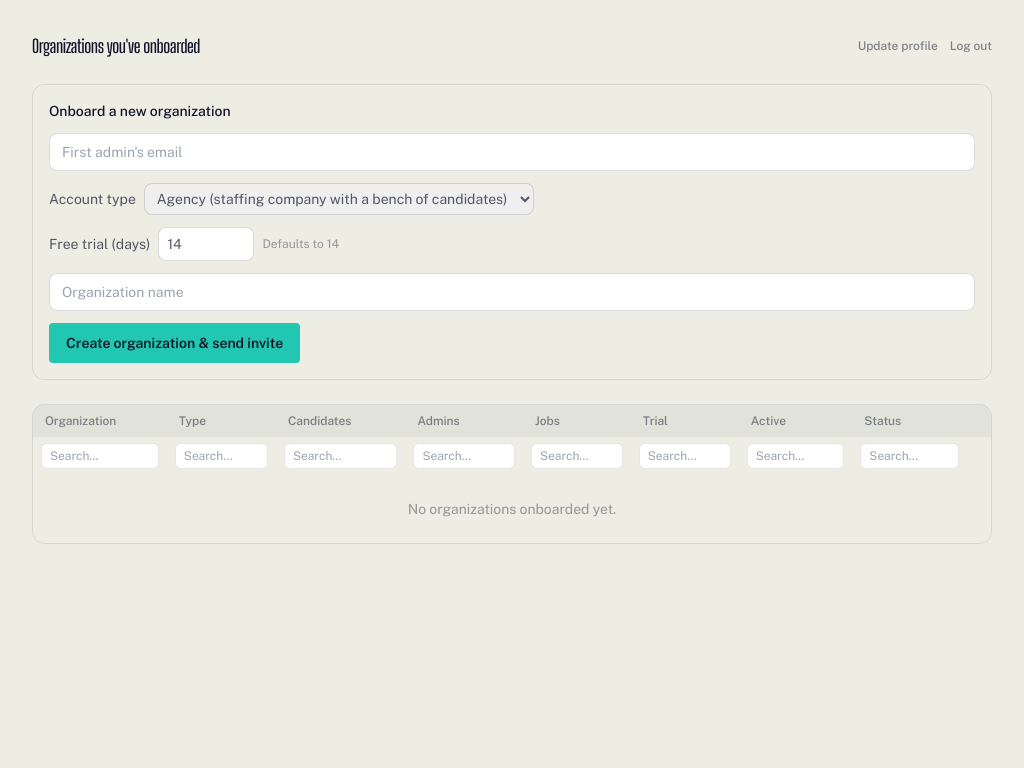
Test case: StaffDashboard › shows the server error when the organization name is already taken
Expected: the text "No organizations onboarded yet." is shown, 33,475 -> 991,543
Type "Beta Corp" into the field with placeholder "Organization name".
click(512, 292); type("Beta Corp")  # box 49,273 -> 975,311
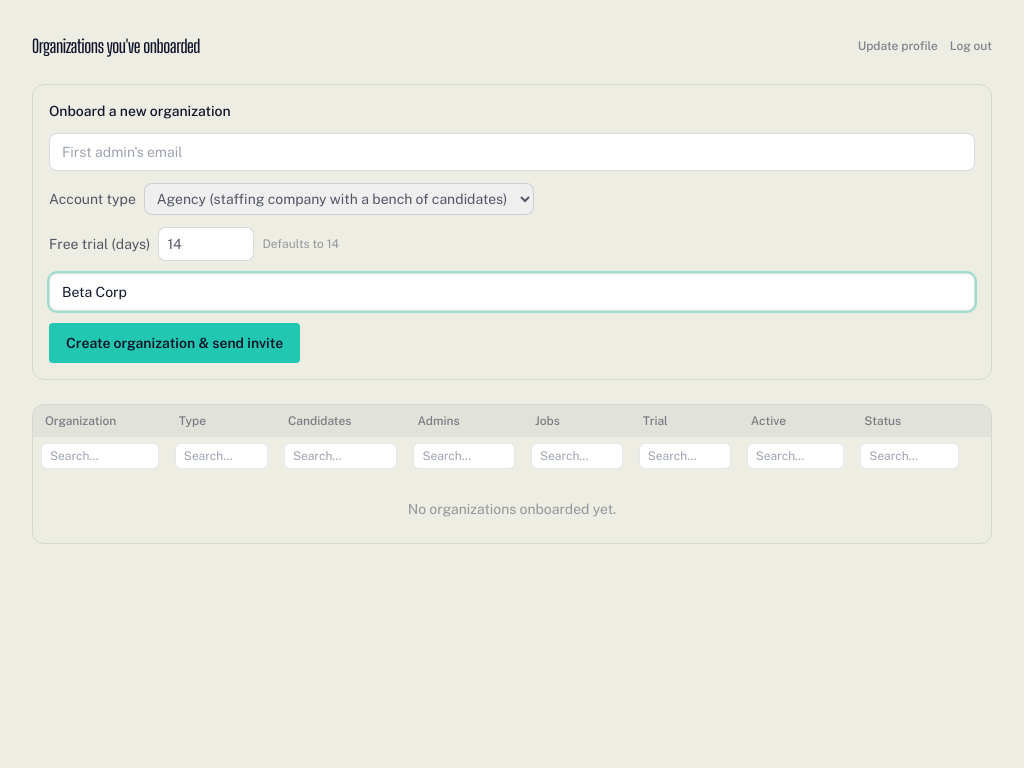
Type "admin@beta.com" into the field with placeholder "First admin's email".
click(512, 152); type("admin@beta.com")  # box 49,133 -> 975,171
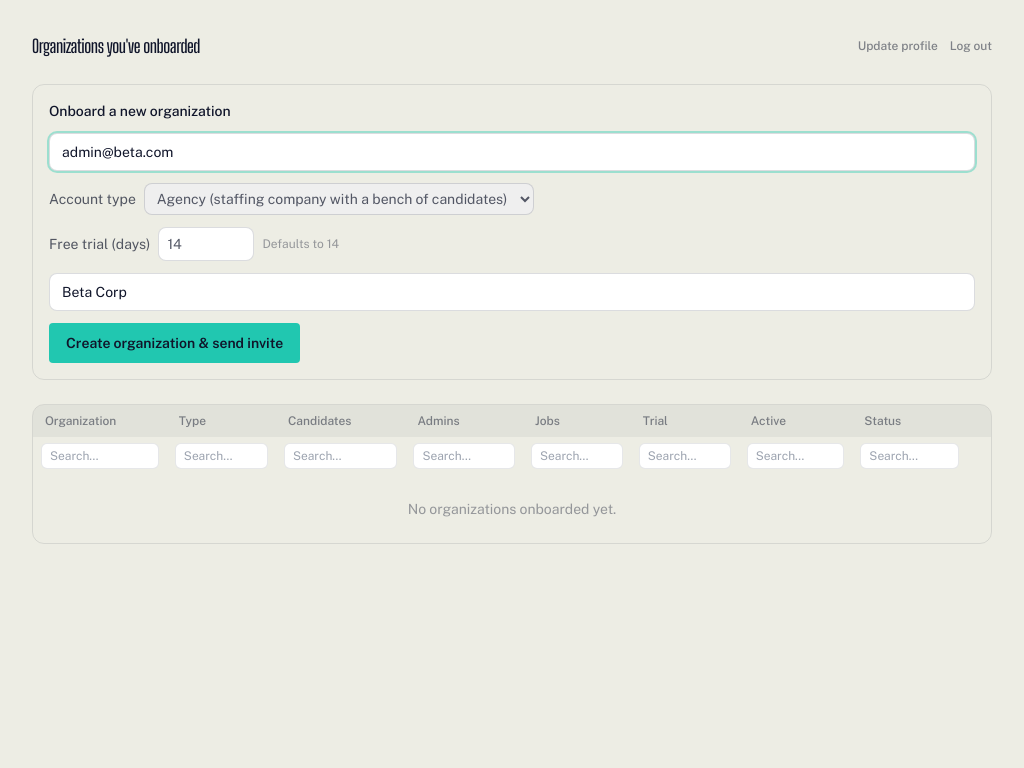
Click the button "Create organization & send invite".
click(175, 343)  # box 49,323 -> 300,363
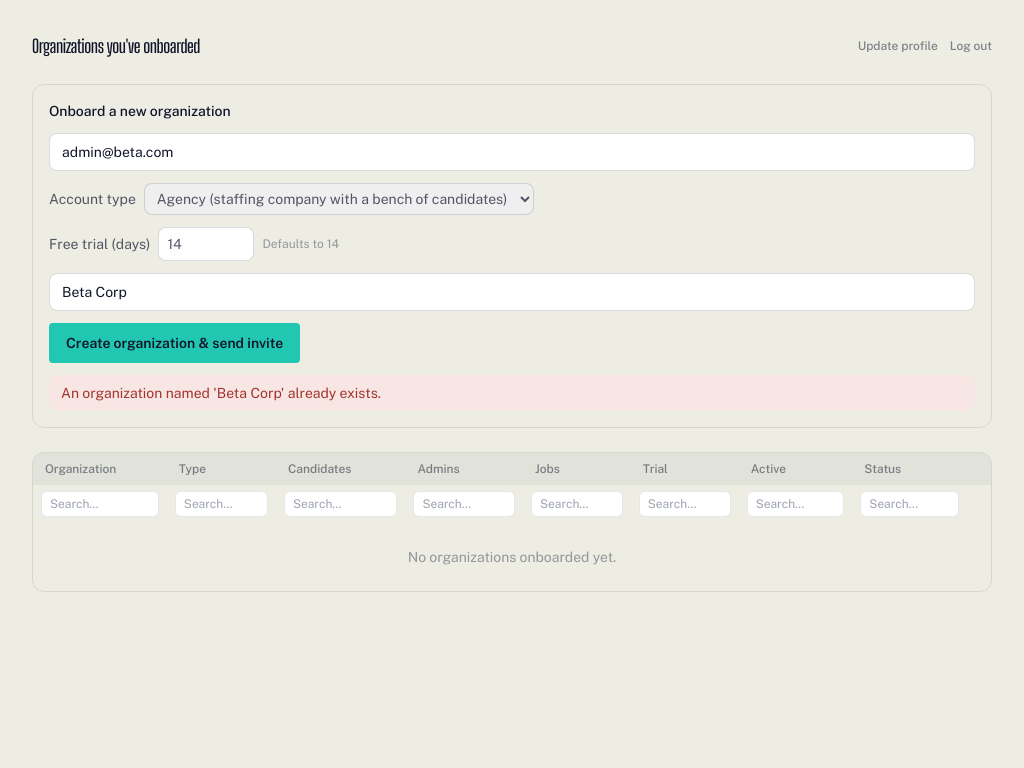
Result: the text "An organization named 'Beta Corp' already exists." is shown at 49,375 -> 975,411
